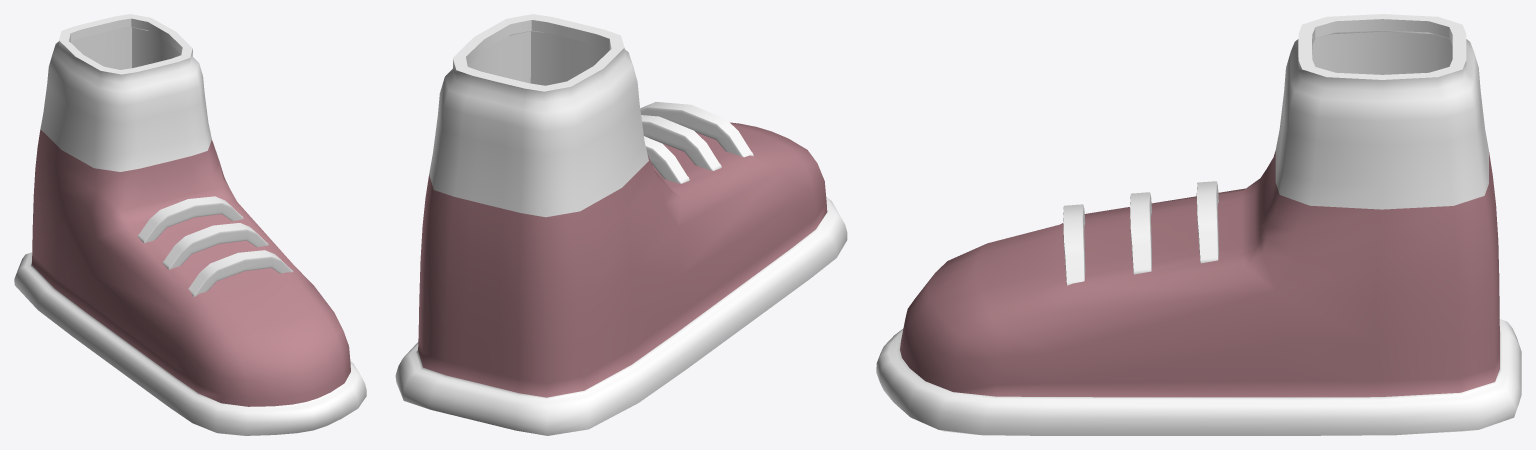
Rendered from Shoe_2.fbx.
3 renders of one model, left to right at view 1: azimuth 30°, elevation 25°; view 2: azimuth 150°, elevation 25°; view 3: azimuth 270°, elevation 25°, orthographic. The views are drawn at different scales.
Visible parts, largest first — view 1: Shoe_2; view 2: Shoe_2; view 3: Shoe_2.
Boxes of the visible parts, x1=… form: Shoe_2: x1=14, y1=14, x2=366, y2=435; Shoe_2: x1=395, y1=14, x2=847, y2=435; Shoe_2: x1=876, y1=14, x2=1521, y2=435.
Size of the model in its own units: 0.1194 by 0.1715 by 0.294.
